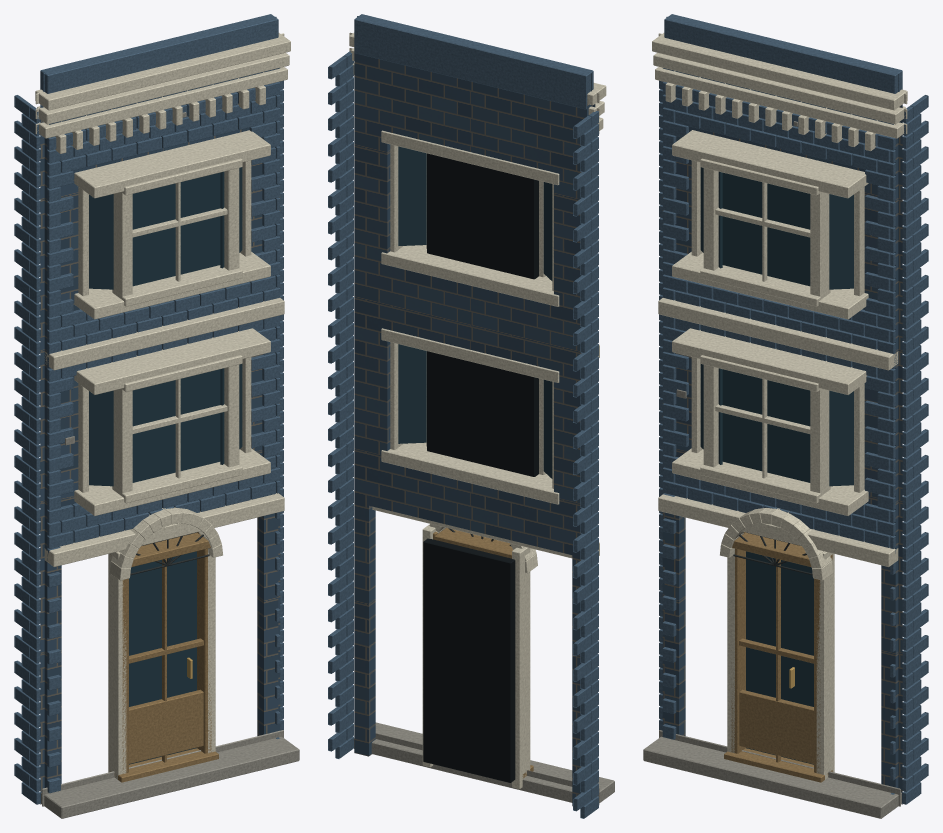
The model's file is VICT3A_lod0.glb.
3 renders of one model, left to right at view 1: azimuth 30°, elevation 25°; view 2: azimuth 150°, elevation 25°; view 3: azimuth 330°, elevation 25°, orthographic.
Visible parts, largest first — view 1: VICT3A_FRONT_LOD0; view 2: VICT3A_FRONT_LOD0; view 3: VICT3A_FRONT_LOD0.
Part boxes in pixels (x1=…): VICT3A_FRONT_LOD0: x1=14, y1=14, x2=299, y2=818; VICT3A_FRONT_LOD0: x1=328, y1=14, x2=614, y2=818; VICT3A_FRONT_LOD0: x1=643, y1=14, x2=928, y2=818.
Size of the model in its own units: 3.44 by 9.66 by 1.11.
Materials: 12 (9 with a texture image).
